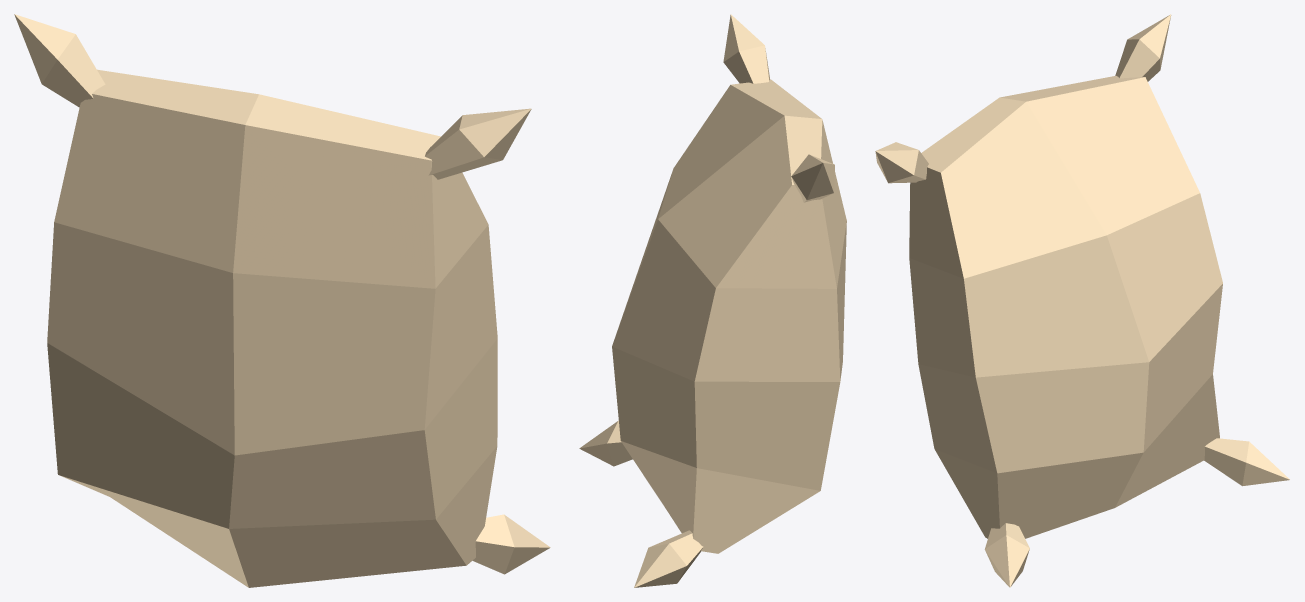
Rendered from flour.glb.
The picture shows the model from 3 angles, left to right: view 1: azimuth 30°, elevation 25°; view 2: azimuth 150°, elevation 25°; view 3: azimuth 270°, elevation 25°; orthographic projection. The views are drawn at different scales.
Parts seen in each view (by area): view 1: group181920446; view 2: group181920446; view 3: group181920446.
Part boxes in pixels (x1,y1,x2,y2): group181920446: (14,14,550,587); group181920446: (579,14,846,587); group181920446: (875,14,1289,587).
Size of the model in its own units: 0.4326 by 0.5448 by 0.4856.
